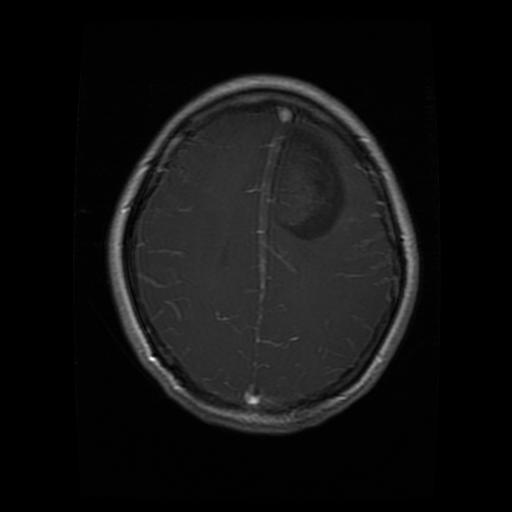Gliomia_tumour: (260, 122, 345, 241)
